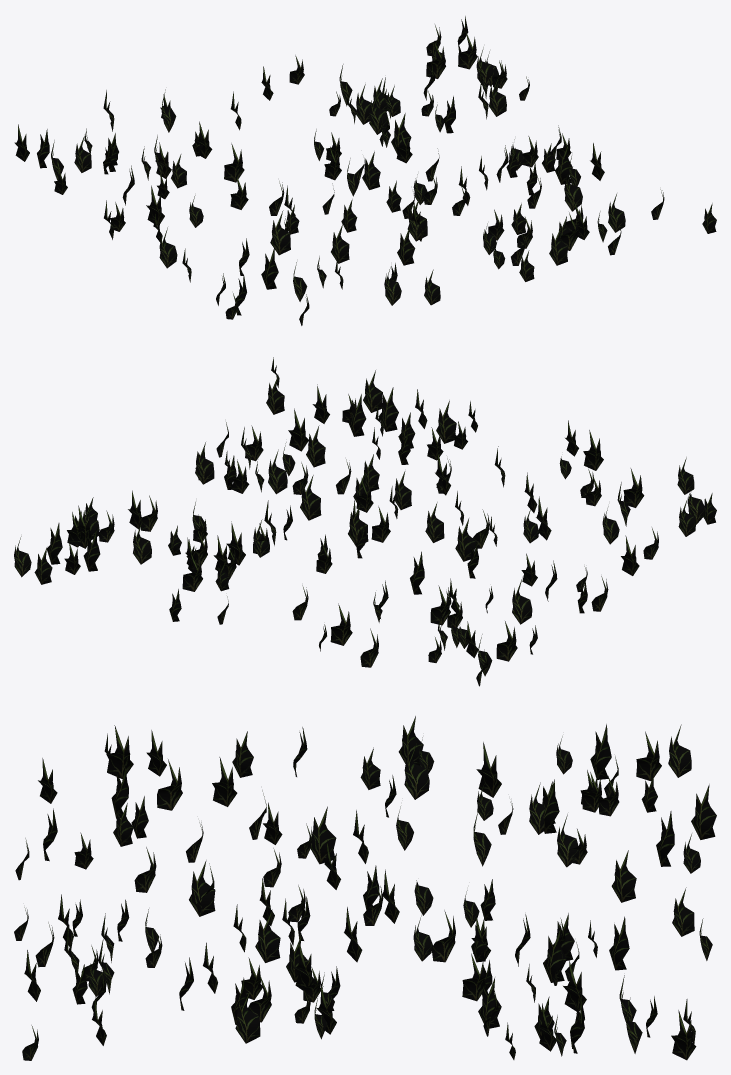
The model's file is SM_GrassPatch.glb.
3 renders of one model, top to bottom at view 1: azimuth 30°, elevation 25°; view 2: azimuth 150°, elevation 25°; view 3: azimuth 270°, elevation 25°, orthographic. The views are drawn at different scales.
Visible parts, largest first — view 1: SM_GrassPatch; view 2: SM_GrassPatch; view 3: SM_GrassPatch.
Boxes of the visible parts, left/top/right/bottom form: SM_GrassPatch: left=14, top=16, right=716, bottom=325; SM_GrassPatch: left=14, top=357, right=716, bottom=686; SM_GrassPatch: left=14, top=716, right=716, bottom=1060.
Size of the model in its own units: 3.06 by 0.2758 by 3.02.
1 material, 1 textured.
